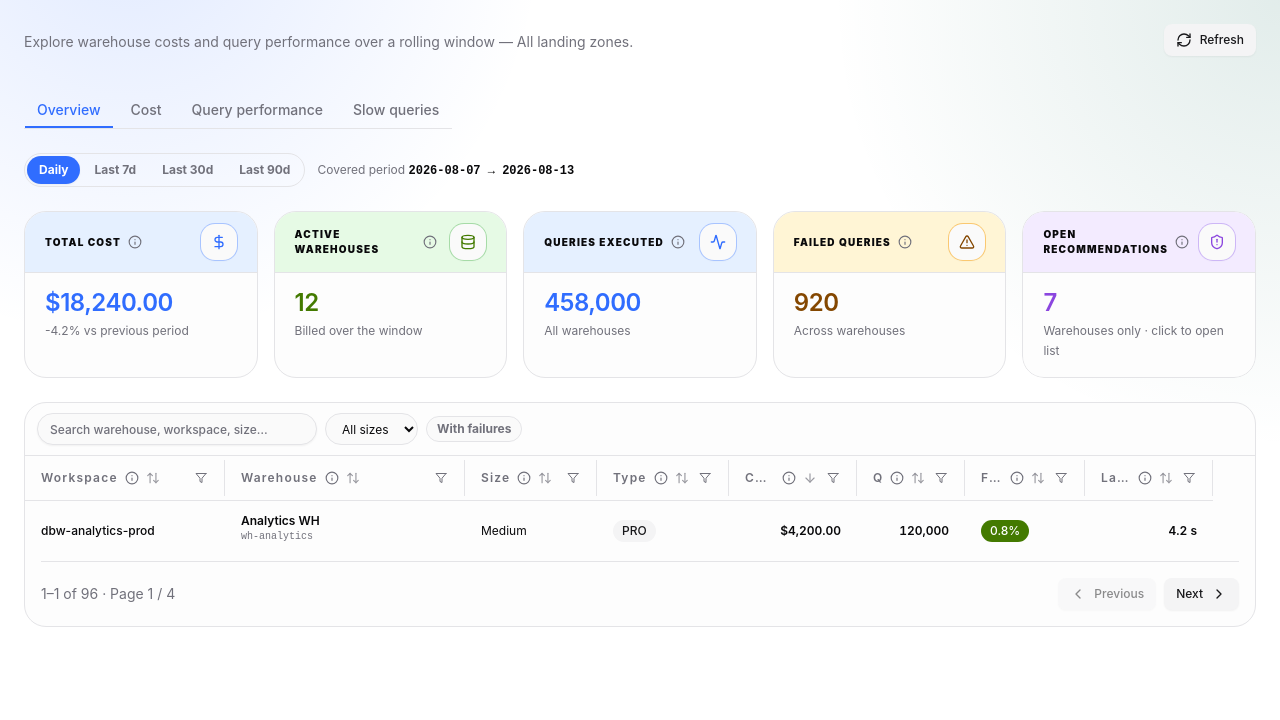
ComputeSqlWarehouses › opens the drawer when a cost row is clicked
Click the tab "Cost". click: (146, 110)
box: [118,92,174,128]
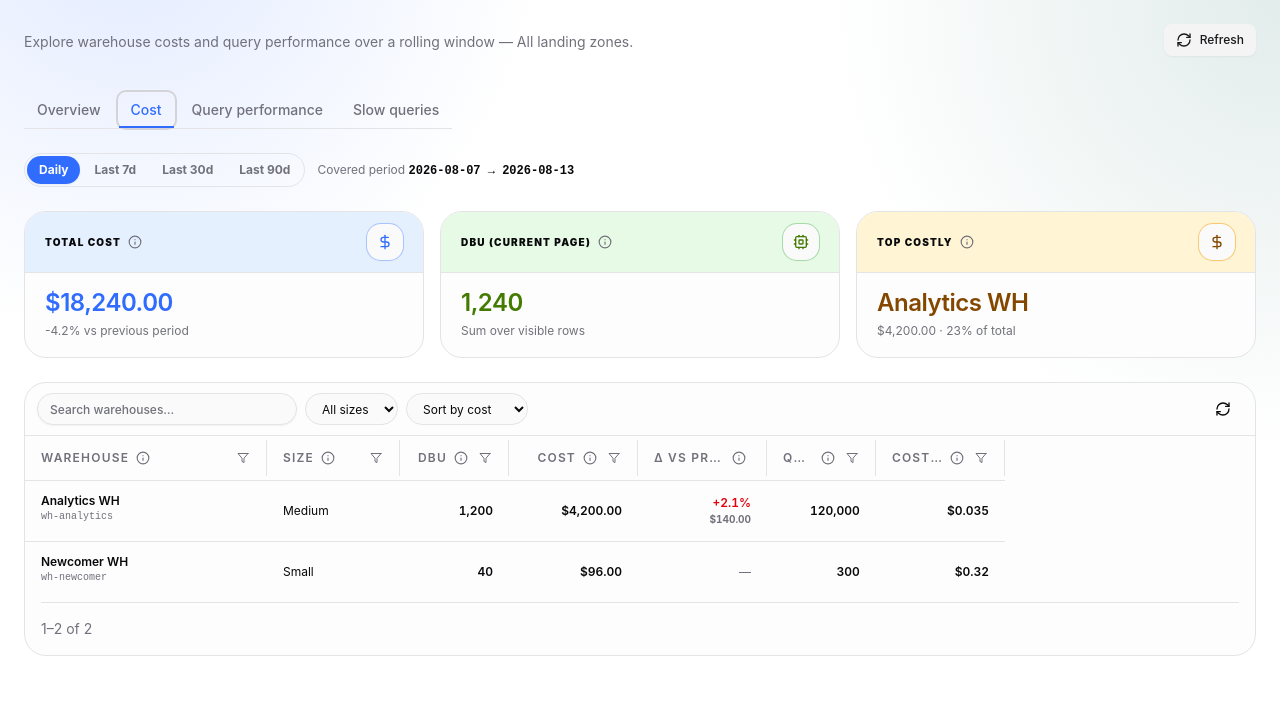
Result: the text "Analytics WH" below "Top costly" is shown at [877,288,1028,317]
Click the text "Analytics WH" in the row of "Medium". click: (80, 500)
box: [41,492,120,508]
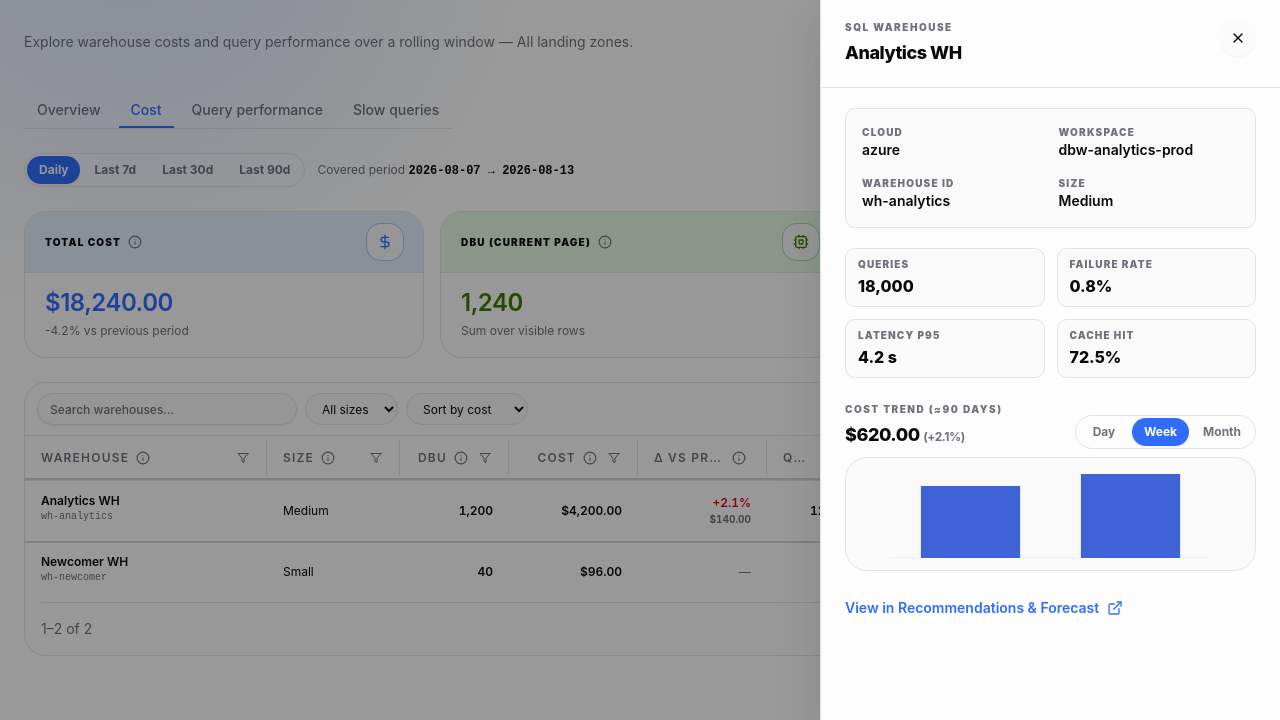
Result: the dialog named "SQL Warehouse details" is shown at [820,0,1279,719]
